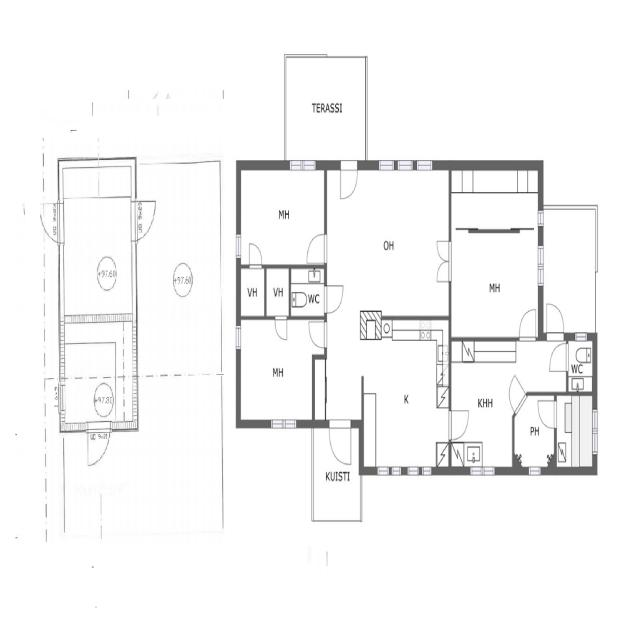door: (36, 204, 64, 242), (133, 202, 160, 240), (329, 420, 351, 465), (88, 422, 110, 467), (504, 376, 527, 414), (340, 161, 358, 199), (547, 304, 563, 342), (519, 309, 536, 341), (449, 411, 468, 439), (324, 285, 343, 313), (308, 234, 326, 263), (550, 343, 568, 371), (538, 401, 556, 428), (310, 322, 326, 347), (250, 244, 262, 268), (437, 261, 451, 281), (437, 242, 451, 261), (275, 316, 286, 338)
